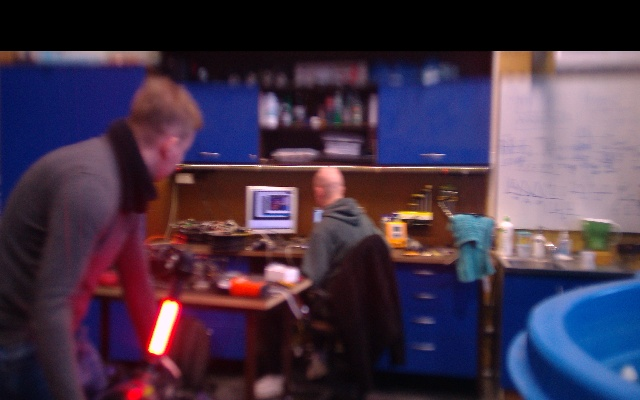red: (148, 298, 180, 357)
